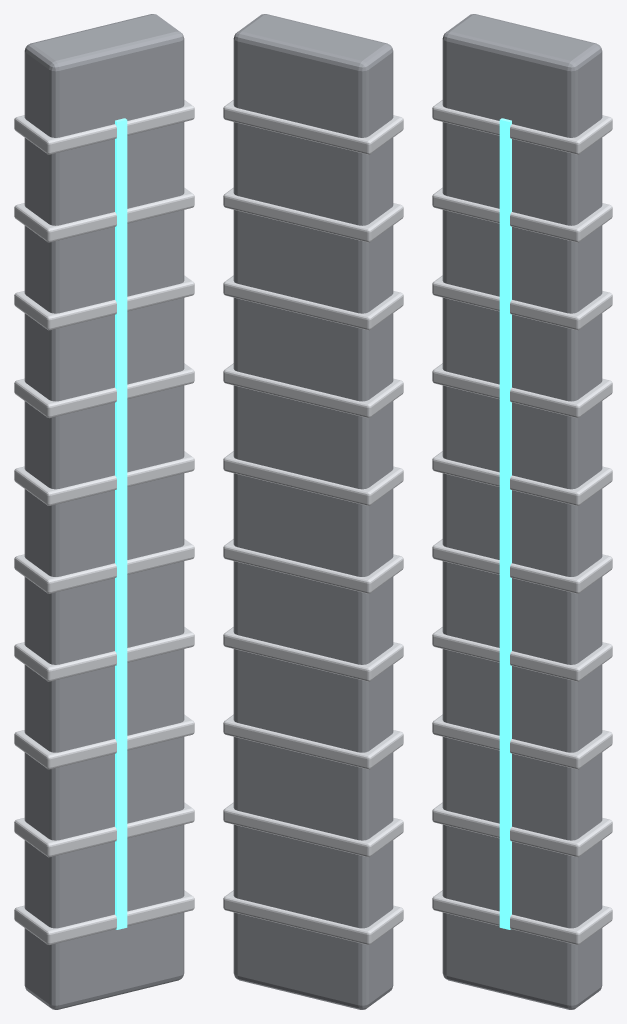
The model's file is pilaster_rib_panel.glb.
3 renders of one model, left to right at view 1: azimuth 30°, elevation 25°; view 2: azimuth 150°, elevation 25°; view 3: azimuth 330°, elevation 25°, orthographic.
Parts seen in each view (by area): view 1: GD_pilaster_rib_panel__m0, GD_pilaster_rib_panel__m1, GD_pilaster_rib_panel__m2; view 2: GD_pilaster_rib_panel__m0, GD_pilaster_rib_panel__m1; view 3: GD_pilaster_rib_panel__m0, GD_pilaster_rib_panel__m1, GD_pilaster_rib_panel__m2.
Part boxes in pixels (box(x1,y1,x2,y2)): GD_pilaster_rib_panel__m0: box(24, 14, 184, 1009); GD_pilaster_rib_panel__m1: box(14, 100, 194, 944); GD_pilaster_rib_panel__m2: box(115, 118, 127, 929); GD_pilaster_rib_panel__m0: box(233, 14, 393, 1009); GD_pilaster_rib_panel__m1: box(223, 100, 403, 944); GD_pilaster_rib_panel__m0: box(442, 14, 602, 1009); GD_pilaster_rib_panel__m1: box(432, 100, 612, 944); GD_pilaster_rib_panel__m2: box(499, 118, 511, 929).
Size of the model in its own units: 0.44 by 2.7 by 0.181.
